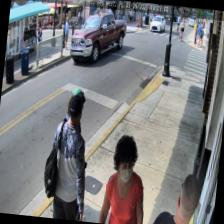person: (44, 85, 96, 221), (98, 132, 151, 224), (150, 170, 202, 224)
